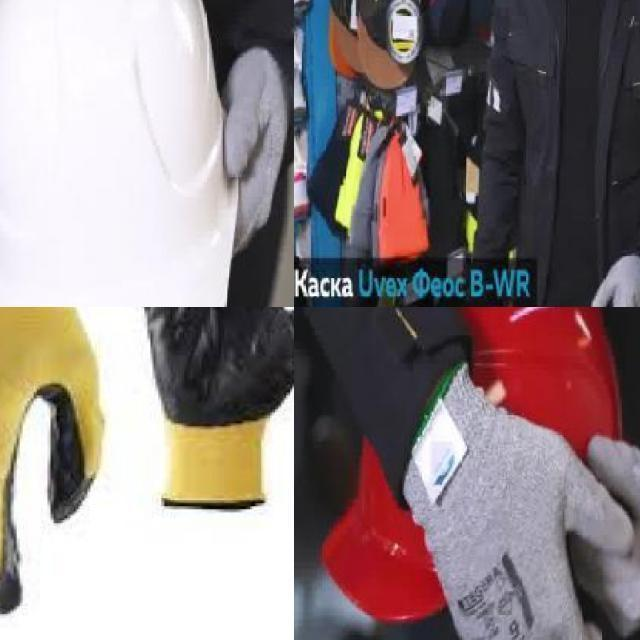apron: (403, 359, 637, 640), (110, 307, 294, 528), (0, 307, 111, 614), (219, 47, 293, 256), (568, 428, 640, 640), (579, 248, 640, 307)
